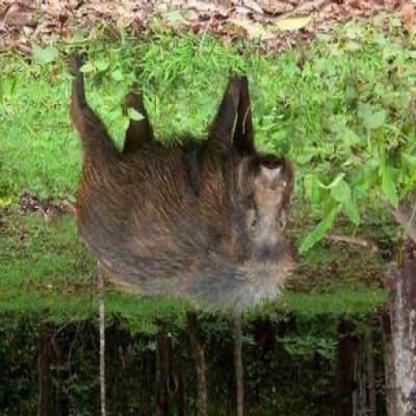boar: (53, 58, 304, 330)
